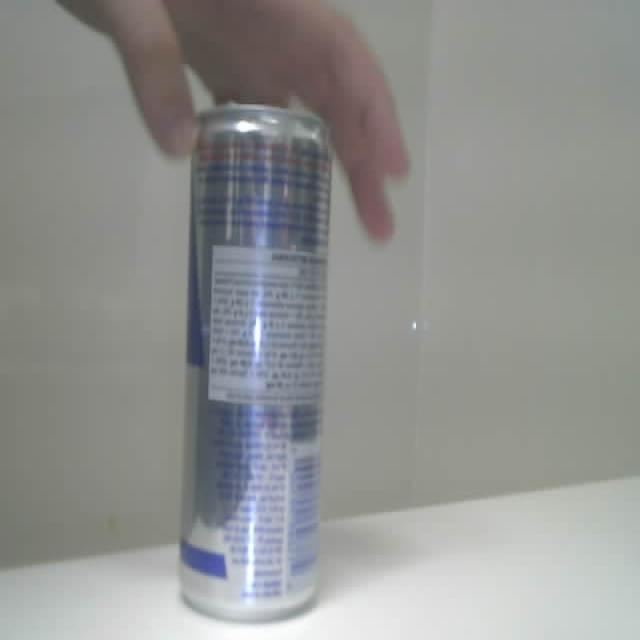redbull can: (180, 104, 330, 619)
